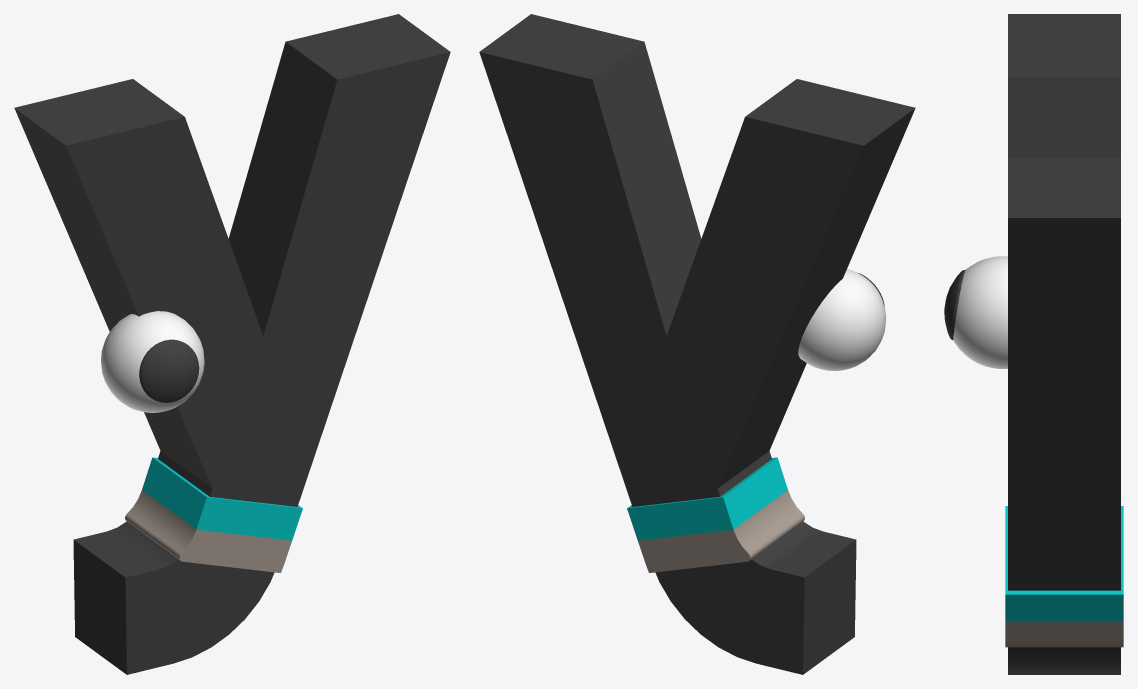
3 views of the same model, side by side, from view 1: azimuth 30°, elevation 25°; view 2: azimuth 150°, elevation 25°; view 3: azimuth 270°, elevation 25° (orthographic). The views are drawn at different scales.
Visible parts, largest first — view 1: 029_DayDay_y2_L; view 2: 029_DayDay_y2_L; view 3: 029_DayDay_y2_L.
Boxes of the visible parts, x1,y1,x2,y2 form: 029_DayDay_y2_L: (14,14,450,674); 029_DayDay_y2_L: (479,14,915,674); 029_DayDay_y2_L: (944,14,1123,674).
Bounding box in the file's own units: 0.1985 × 0.2684 × 0.0738.
